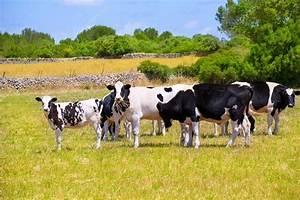cow: (104, 79, 201, 151), (34, 95, 105, 151), (245, 79, 300, 139)
